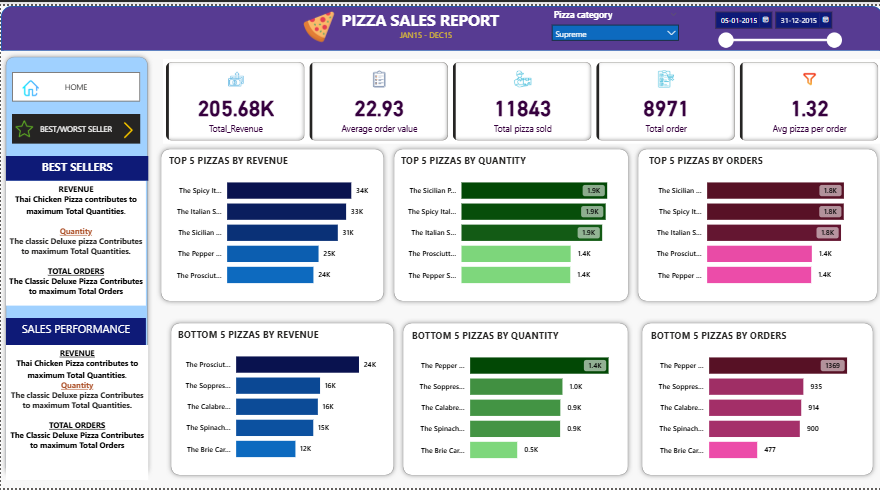

This screenshot's page, from the dashboard's own definition file:
{"tool":"powerbi","page":{"name":"BEST/WORST SELLER","canvas":[1500,820],"ordinal":1},"visuals":[{"type":"cardVisual","fields":{"Data":["pizza_sales.Total_Revenue","pizza_sales.Average order value","pizza_sales.Total pizza sold","pizza_sales.Total order","pizza_sales.Avg pizza per order"]},"box":[276,90,1224,144],"z":0},{"type":"shape","box":[0,0,1500,76],"z":1000},{"type":"textbox","box":[540,0,348,70],"z":2000},{"type":"textbox","box":[660,36,126,54],"z":3000},{"type":"image","box":[496,4,88,64],"z":4000},{"type":"shape","box":[264,234,396,276],"z":5000},{"type":"shape","box":[0,78,258,730],"z":6000},{"type":"textbox","box":[8,256,242,42],"z":7000},{"type":"textbox","box":[8,298,238,212],"z":8000},{"type":"textbox","box":[8,530,238,46],"z":9000},{"type":"textbox","box":[7.9,576.3,242.1,230.3],"z":10000},{"type":"slicer","fields":{"Values":["pizza_sales.pizza_category"]},"box":[928,0,236,70],"z":11000},{"type":"slicer","fields":{"Values":["pizza_sales.order_date"]},"box":[1202,0,236,76],"z":12000},{"type":"shape","box":[660,234,416,276],"z":13000},{"type":"shape","box":[1076,234,424,276],"z":14000},{"type":"shape","box":[280,530,396,276],"z":15000},{"type":"shape","box":[676,530,400,276],"z":16000},{"type":"shape","box":[1082,530,410,276],"z":17000},{"type":"barChart","title":"TOP 5 PIZZAS BY REVENUE","fields":{"Y":["pizza_sales.Total_Revenue"],"Category":["pizza_sales.pizza_name"]},"box":[280,252,364,240],"z":18000},{"type":"barChart","title":"BOTTOM 5 PIZZAS BY REVENUE","fields":{"Y":["pizza_sales.Total_Revenue"],"Category":["pizza_sales.pizza_name"]},"box":[296,548,364,240],"z":19000},{"type":"barChart","title":"TOP 5 PIZZAS BY  QUANTITY","fields":{"Category":["pizza_sales.pizza_name"],"Y":["pizza_sales.Total pizza sold"]},"box":[676,252,382,240],"z":20000},{"type":"barChart","title":"BOTTOM 5 PIZZAS BY  QUANTITY","fields":{"Category":["pizza_sales.pizza_name"],"Y":["pizza_sales.Total pizza sold"]},"box":[694,550,364,240],"z":21000},{"type":"barChart","title":"TOP 5 PIZZAS BY  ORDERS","fields":{"Y":["pizza_sales.Total order"],"Category":["pizza_sales.pizza_name"]},"box":[1098,252,364,240],"z":22000},{"type":"barChart","title":"BOTTOM 5 PIZZAS BY  ORDERS","fields":{"Y":["pizza_sales.Total order"],"Category":["pizza_sales.pizza_name"]},"box":[1100,550,364,240],"z":23000},{"type":"pageNavigator","box":[18,184,218,50],"z":23001},{"type":"pageNavigator","box":[18,112,218,50],"z":23002},{"type":"image","box":[26,120,50,38],"z":23003},{"type":"image","box":[184,192,66,38],"z":23004},{"type":"image","box":[2,188,76,40],"z":23005}]}

Visuals, with their boxes in screenshot pixels (x1, y1, x2, y2), scaled from the page's 1500x820 canvas onto the 880x490 screenshot:
cardVisual - pizza_sales.Total_Revenue x pizza_sales.Average order value: Rect(162, 54, 879, 140)
shape: Rect(0, 0, 879, 45)
textbox: Rect(317, 0, 521, 42)
textbox: Rect(387, 22, 461, 54)
image: Rect(291, 2, 343, 41)
shape: Rect(155, 140, 387, 305)
shape: Rect(0, 47, 151, 483)
textbox: Rect(5, 153, 147, 178)
textbox: Rect(5, 178, 144, 305)
textbox: Rect(5, 317, 144, 344)
textbox: Rect(5, 344, 147, 482)
slicer - pizza_sales.pizza_category: Rect(544, 0, 683, 42)
slicer - pizza_sales.order_date: Rect(705, 0, 844, 45)
shape: Rect(387, 140, 631, 305)
shape: Rect(631, 140, 879, 305)
shape: Rect(164, 317, 397, 482)
shape: Rect(397, 317, 631, 482)
shape: Rect(635, 317, 875, 482)
"TOP 5 PIZZAS BY REVENUE" barChart: Rect(164, 151, 378, 294)
"BOTTOM 5 PIZZAS BY REVENUE" barChart: Rect(174, 327, 387, 471)
"TOP 5 PIZZAS BY  QUANTITY" barChart: Rect(397, 151, 621, 294)
"BOTTOM 5 PIZZAS BY  QUANTITY" barChart: Rect(407, 329, 621, 472)
"TOP 5 PIZZAS BY  ORDERS" barChart: Rect(644, 151, 858, 294)
"BOTTOM 5 PIZZAS BY  ORDERS" barChart: Rect(645, 329, 859, 472)
pageNavigator: Rect(11, 110, 138, 140)
pageNavigator: Rect(11, 67, 138, 97)
image: Rect(15, 72, 45, 94)
image: Rect(108, 115, 147, 137)
image: Rect(1, 112, 46, 136)
